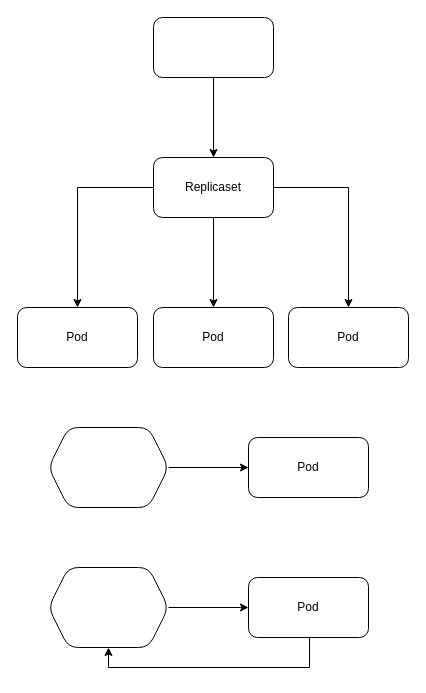
Some shapes in this 426 by 693 pixel diagram are drawn without their labels. The centre of each missing label's shape, as x and y in pixels:
CronJob: the point at 108,607
Deployment: the point at 213,47
Job: the point at 108,467
